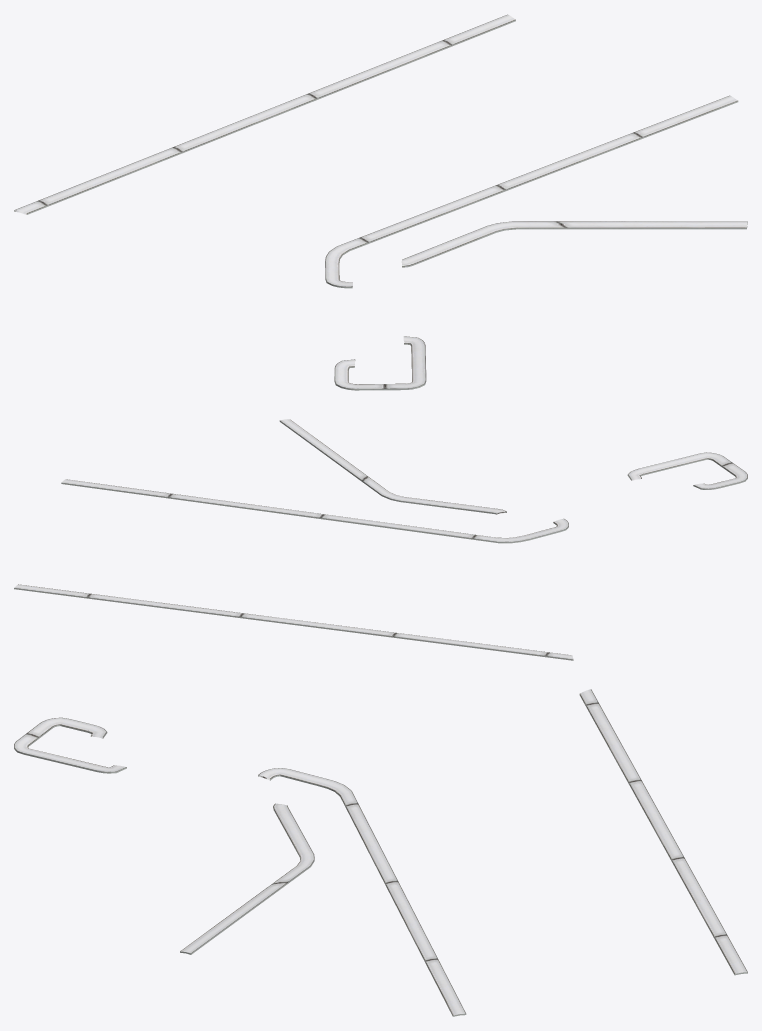
File: STA20_twistyrail.FBX
The picture shows the model from 3 angles, top to bottom: view 1: azimuth 30°, elevation 25°; view 2: azimuth 150°, elevation 25°; view 3: azimuth 270°, elevation 25°; orthographic projection. The views are drawn at different scales.
Visible parts, largest first — view 1: STA20_twistyrail; view 2: STA20_twistyrail; view 3: STA20_twistyrail.
Part boxes in pixels (box(x1,y1,x2,y2)): STA20_twistyrail: box(14, 14, 747, 390); STA20_twistyrail: box(14, 419, 747, 660); STA20_twistyrail: box(14, 689, 747, 1016).
Size of the model in its own units: 20.5 by 0.1276 by 19.53.
